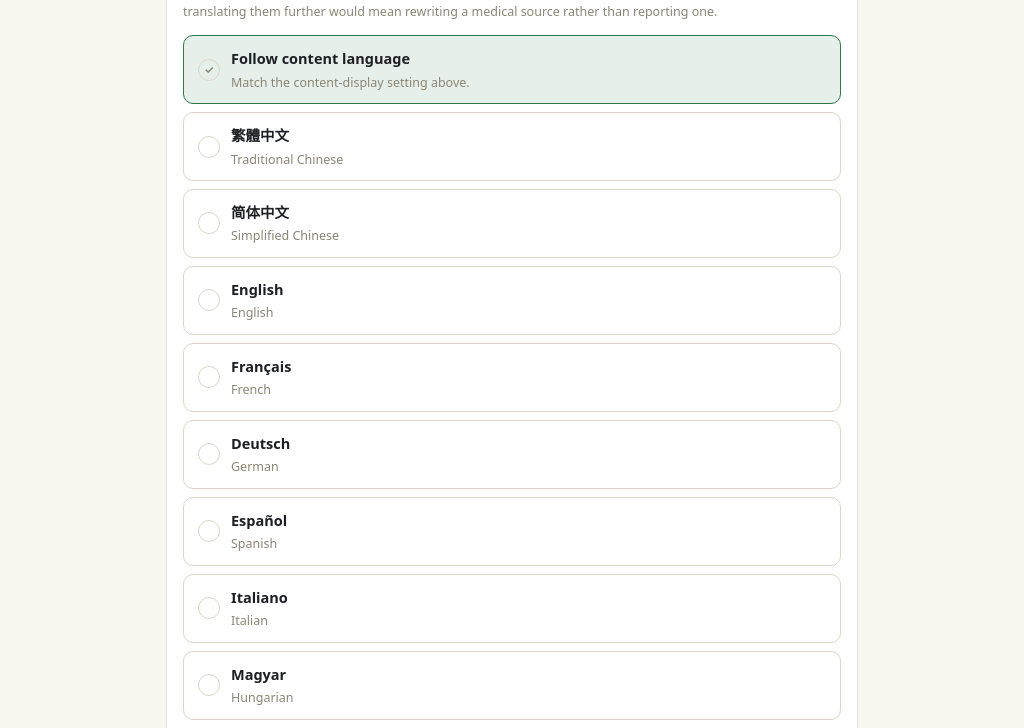
Test case: choosing an interface language › translates the chrome
(page scrolled)
Click the button "Français French" at (261, 366), box [183,343,841,412]
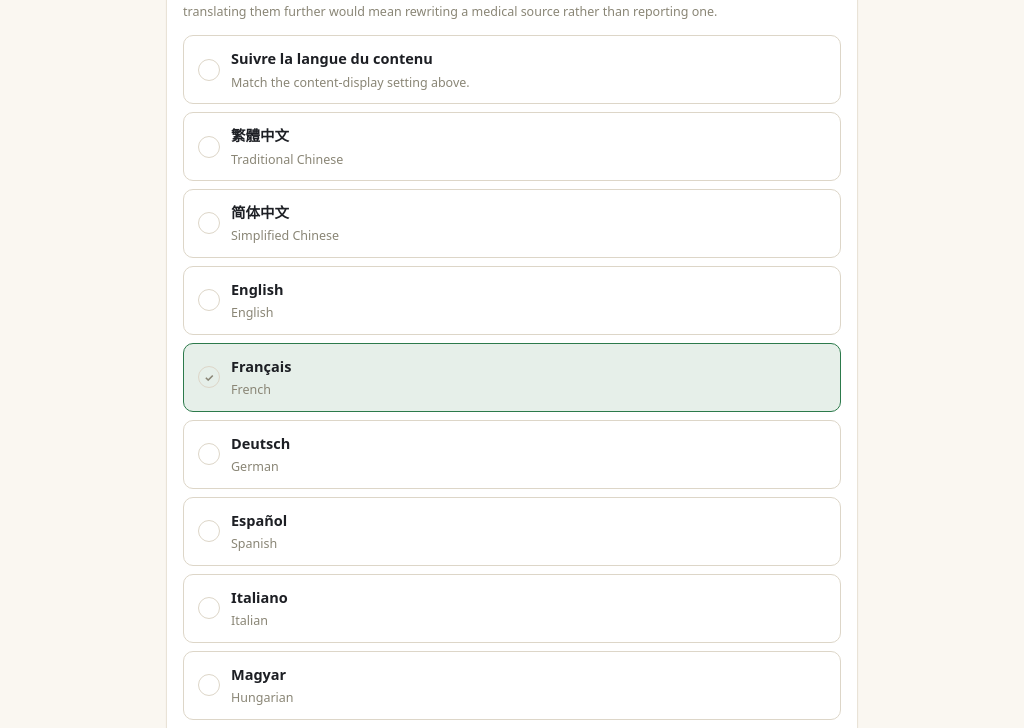
Check: the text "langue" is shown, box [231,48,433,68]
